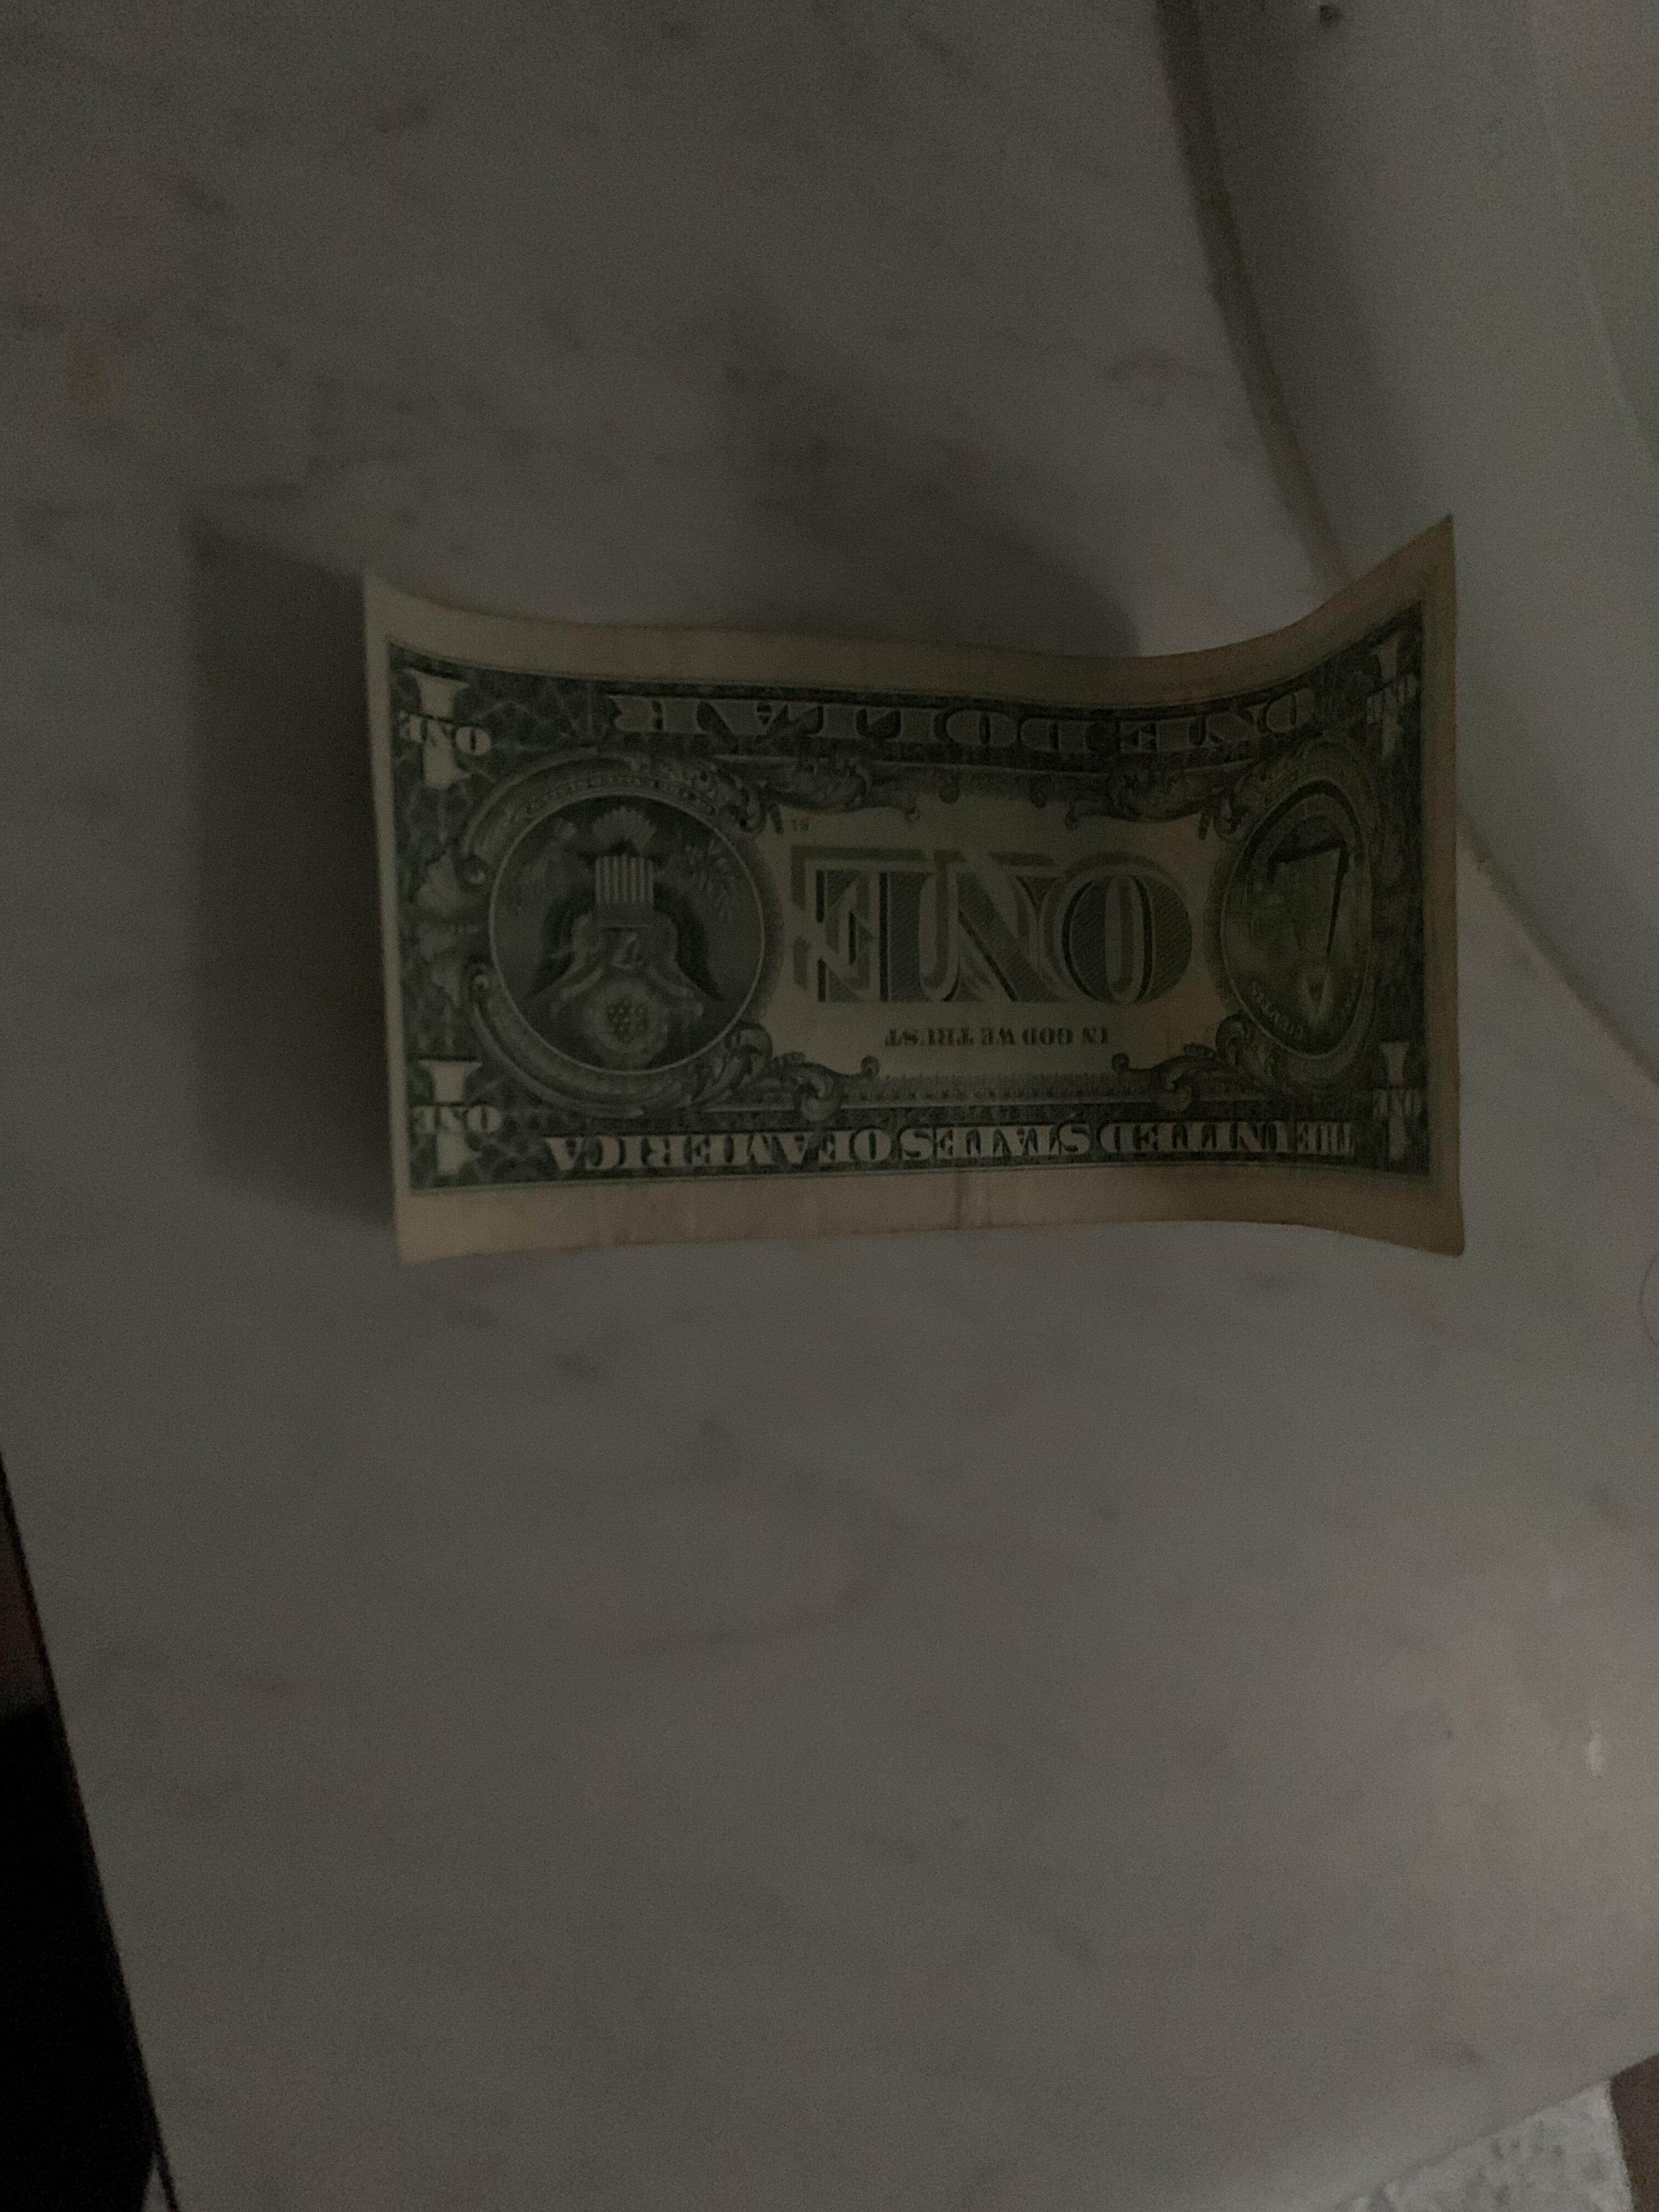OneBill: (235, 486, 1547, 1287)
